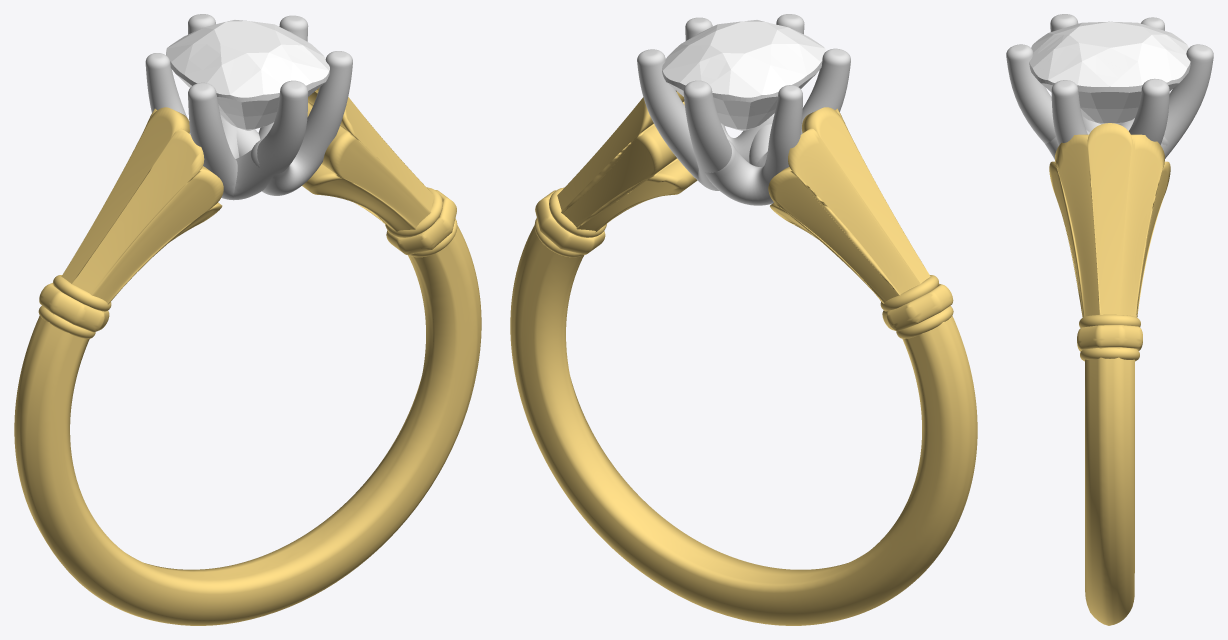
Rendered from nancy_webgi.glb.
3 renders of one model, left to right at view 1: azimuth 30°, elevation 25°; view 2: azimuth 150°, elevation 25°; view 3: azimuth 270°, elevation 25°, orthographic. The views are drawn at different scales.
Visible parts, largest first — view 1: NancyYG002, NancyYG001, NancyGem, NancyYG010, NancyYG005, NancyYG012, NancyYG003; view 2: NancyYG002, NancyYG001, NancyGem, NancyYG010, NancyYG005, NancyYG012, NancyYG003, NancyYG011; view 3: NancyYG002, NancyGem, NancyYG001, NancyYG005, NancyYG004, NancyYG003.
Boxes of the visible parts, x1,y1,x2,y2 form: NancyYG002: (14,87,481,625); NancyYG001: (145,14,352,200); NancyGem: (166,20,329,130); NancyYG010: (39,283,109,332); NancyYG005: (386,190,456,254); NancyYG012: (53,275,111,311); NancyYG003: (385,187,442,237); NancyYG002: (510,90,977,625); NancyYG001: (637,14,850,205); NancyGem: (662,20,825,130); NancyYG010: (882,283,953,331); NancyYG005: (535,190,605,254); NancyYG012: (880,275,938,311); NancyYG003: (549,187,606,237); NancyYG011: (896,305,953,338); NancyYG002: (1049,123,1170,625); NancyGem: (1029,21,1190,124); NancyYG001: (1006,14,1213,159); NancyYG005: (1077,325,1142,351); NancyYG004: (1080,347,1139,361); NancyYG003: (1079,314,1140,327).
Size of the model in its own units: 2.47 by 2.99 by 0.9911.
